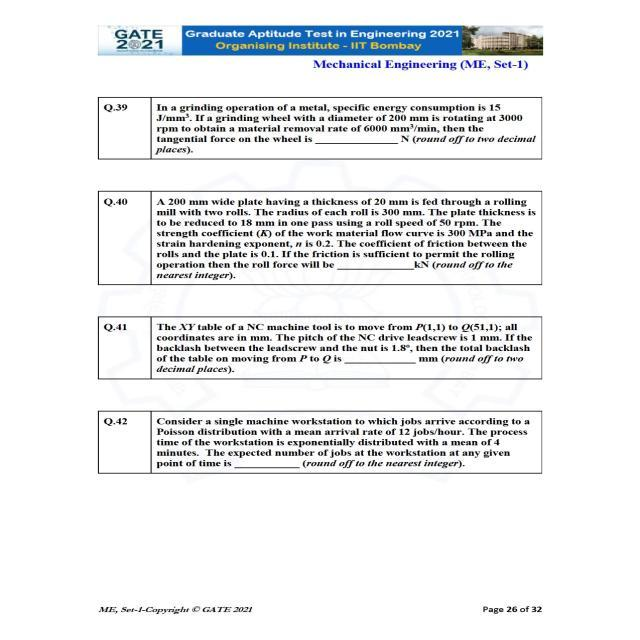Question_Answer_Block: (66, 185, 586, 302), (68, 306, 588, 394), (66, 400, 586, 488), (66, 90, 586, 176)
Question_Block: (66, 185, 586, 302), (68, 306, 588, 394), (66, 400, 586, 488), (66, 90, 586, 176)
Question_Paper_Area: (66, 90, 586, 524)
